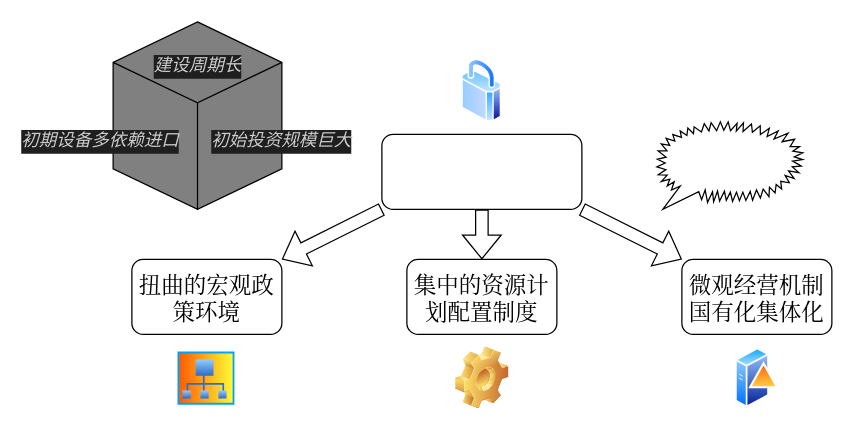
This 854x431 diagram has some shape labels left out. Here are the shapes that lost their labels. From the top down, the box of each, then its label:
(381, 133, 582, 209): 重工业特征与中国经济 现实 的矛盾
(656, 121, 803, 209): 政策已经驶入 错误的航线
